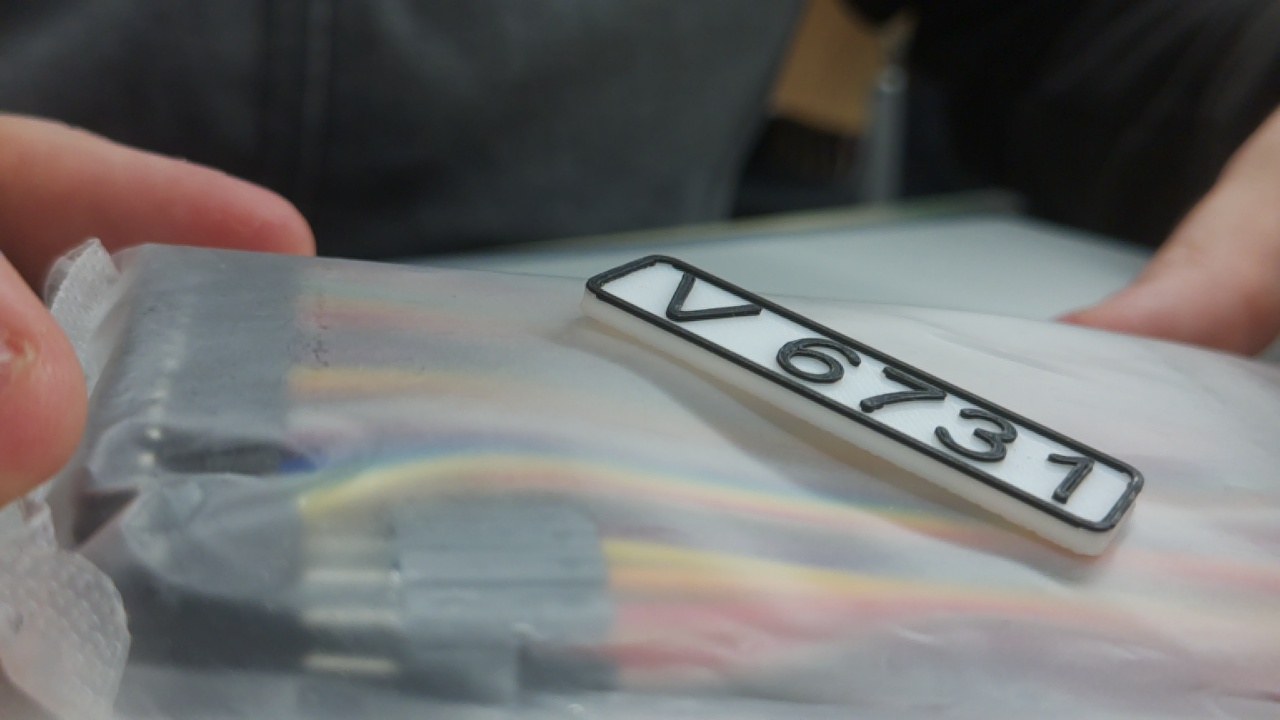license_plate: (572, 235, 1154, 572)
